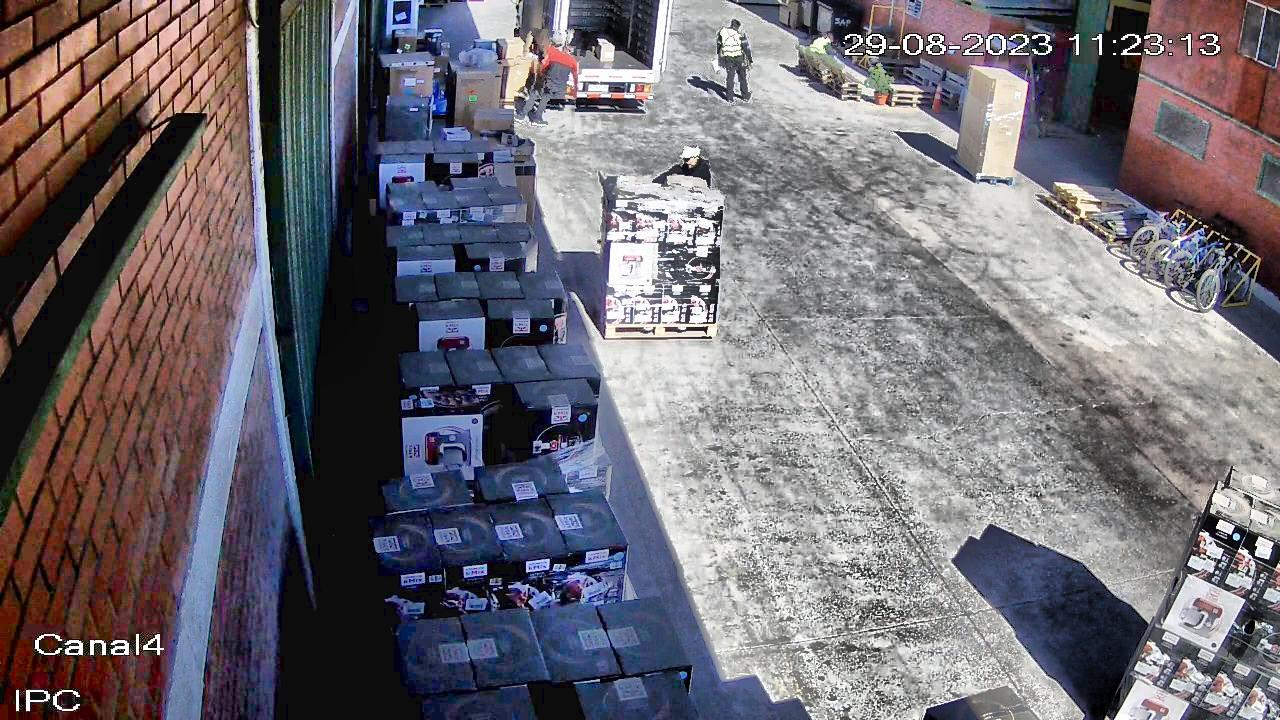con-casco: (676, 143, 710, 176), (545, 32, 568, 54)
con-chaleco: (716, 26, 747, 69), (808, 36, 838, 63)
persona: (644, 141, 720, 279), (515, 30, 584, 142), (699, 12, 753, 106), (800, 31, 845, 84)
sin-casco: (722, 14, 745, 37), (826, 34, 838, 45)
sin-chaleco: (668, 162, 714, 217), (532, 45, 577, 100)
